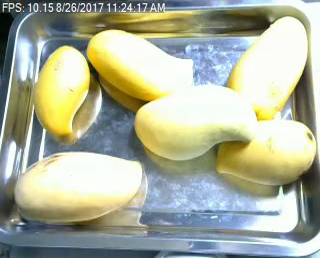Mango: (12, 152, 144, 223), (134, 83, 257, 158), (228, 16, 305, 117), (87, 28, 192, 100), (216, 118, 316, 186), (31, 44, 90, 135)
